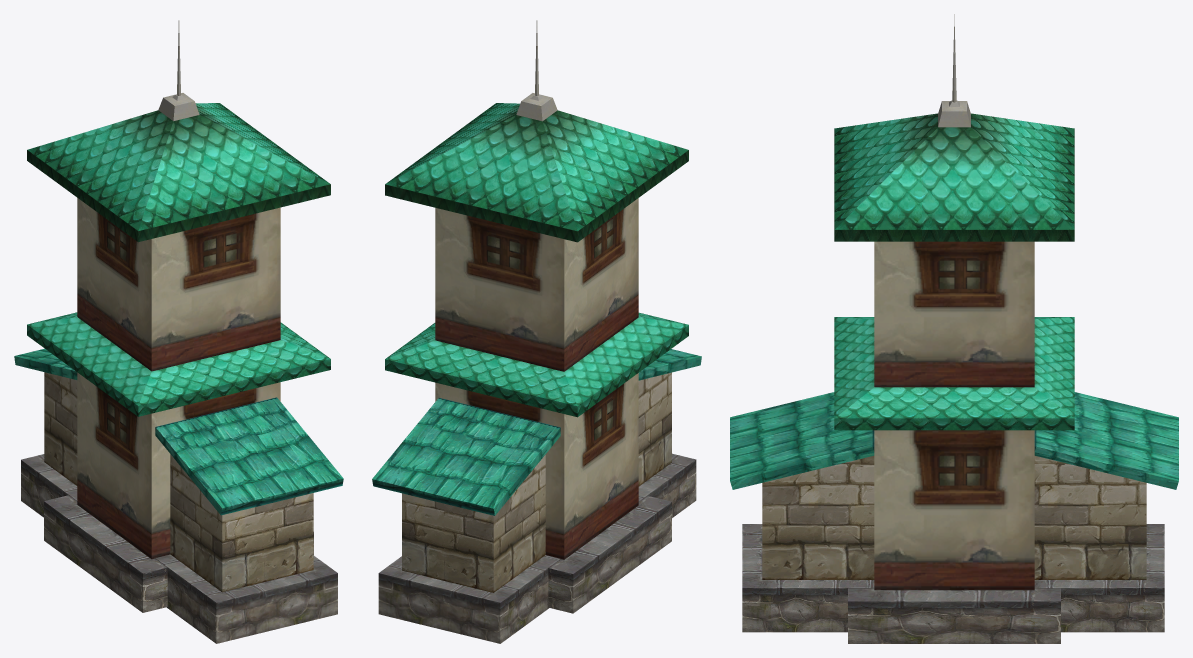
The model's file is House2.FBX.
3 views of the same model, side by side, from view 1: azimuth 30°, elevation 25°; view 2: azimuth 150°, elevation 25°; view 3: azimuth 270°, elevation 25° (orthographic). The views are drawn at different scales.
Visible parts, largest first — view 1: B4, B5, B2, B3, B6, B1; view 2: B4, B5, B2, B3, B6, B1; view 3: B4, B5, B2, B3, B6, B1.
Part boxes in pixels (<box>): B4: <box>77,198,280,559</box>; B5: <box>27,103,330,416</box>; B2: <box>21,454,337,643</box>; B3: <box>44,372,313,592</box>; B6: <box>14,348,343,515</box>; B1: <box>158,20,199,121</box>; B4: <box>435,198,638,559</box>; B5: <box>385,103,688,417</box>; B2: <box>378,453,696,643</box>; B3: <box>402,372,671,592</box>; B6: <box>372,349,701,515</box>; B1: <box>516,20,557,121</box>; B4: <box>874,241,1034,590</box>; B5: <box>834,113,1074,430</box>; B2: <box>742,524,1164,643</box>; B3: <box>762,456,1146,579</box>; B6: <box>730,392,1178,489</box>; B1: <box>938,14,970,127</box>.
Bounding box in the file's own units: 41.02 × 111 × 76.67.
Materials: 6 (6 with a texture image).
